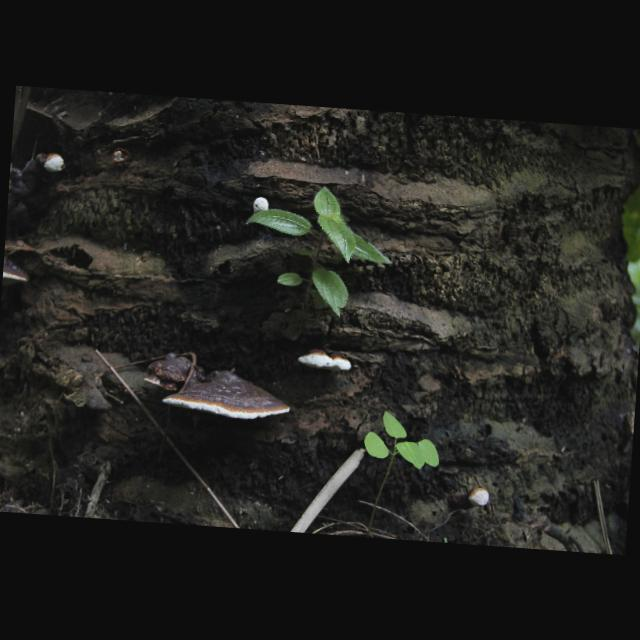ganoderma: (161, 366, 293, 423), (143, 351, 208, 394), (8, 152, 44, 217), (296, 348, 354, 374), (3, 257, 30, 287)
primordium: (467, 487, 490, 509), (44, 152, 67, 174), (251, 196, 271, 217)
